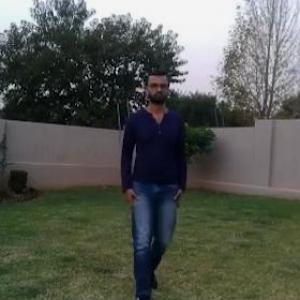follow: (120, 69, 184, 294)
